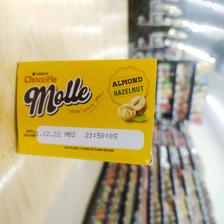Molle: (10, 57, 161, 162)
